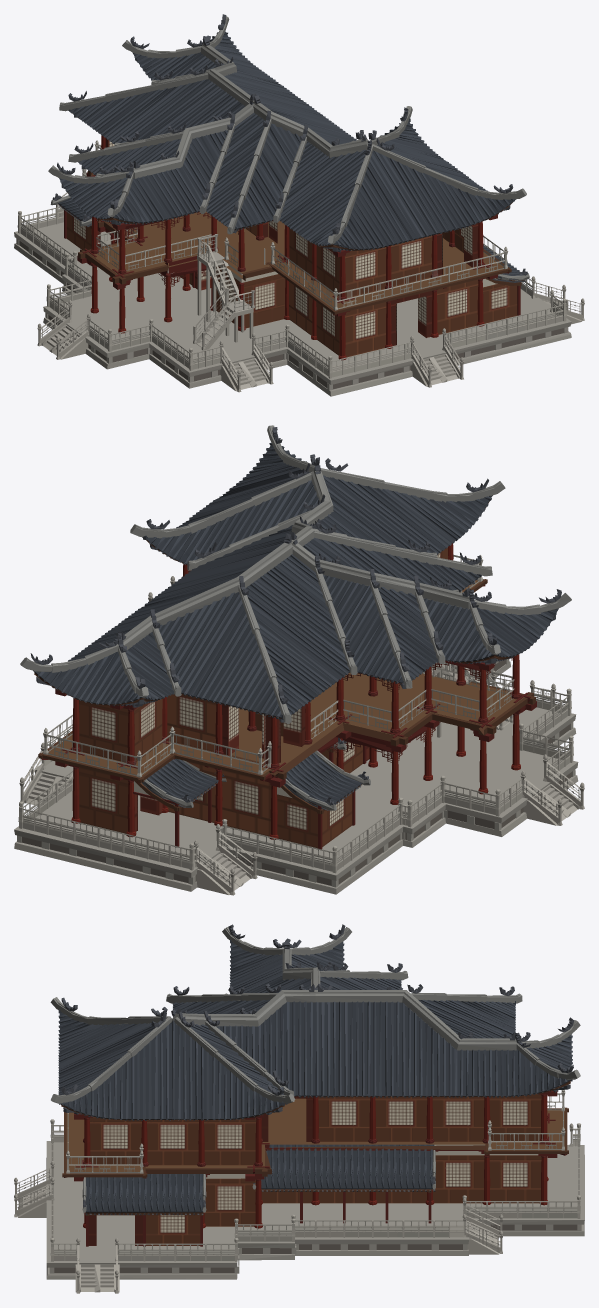
The model's file is tang-kinh-cac.glb.
3 renders of one model, top to bottom at view 1: azimuth 30°, elevation 25°; view 2: azimuth 150°, elevation 25°; view 3: azimuth 270°, elevation 25°, orthographic. The views are drawn at different scales.
Parts seen in each view (by area): view 1: lau; view 2: lau; view 3: lau.
Boxes of the visible parts, left/top/right/bottom form: lau: left=14, top=14, right=584, bottom=396; lau: left=14, top=425, right=584, bottom=895; lau: left=14, top=924, right=584, bottom=1293.
Bounding box in the file's own units: 28.5 × 12.08 × 31.12.
Materials: 2 (1 with a texture image).
